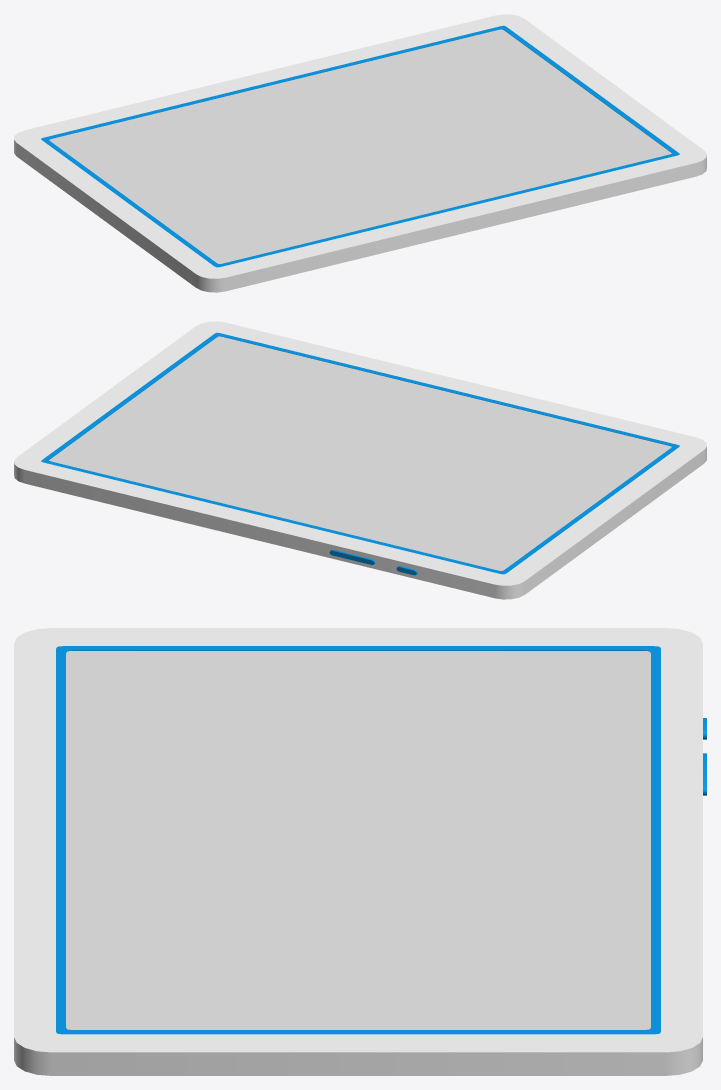
File: SM_Tablets.fbx
The picture shows the model from 3 angles, top to bottom: view 1: azimuth 30°, elevation 25°; view 2: azimuth 150°, elevation 25°; view 3: azimuth 270°, elevation 25°; orthographic projection. The views are drawn at different scales.
Parts seen in each view (by area): view 1: Tablet_screen, Tablet_body, Tablet_details; view 2: Tablet_screen, Tablet_body, Tablet_details; view 3: Tablet_screen, Tablet_body, Tablet_details.
Boxes of the visible parts, x1,y1,x2,y2 form: Tablet_screen: [49, 29, 671, 263]; Tablet_body: [14, 14, 706, 292]; Tablet_details: [41, 25, 679, 267]; Tablet_screen: [49, 336, 671, 570]; Tablet_body: [14, 321, 706, 599]; Tablet_details: [41, 332, 679, 575]; Tablet_screen: [66, 651, 650, 1029]; Tablet_body: [14, 628, 702, 1075]; Tablet_details: [56, 646, 706, 1034].
Bounding box in the file's own units: 29 × 0.8843 × 20.01.
